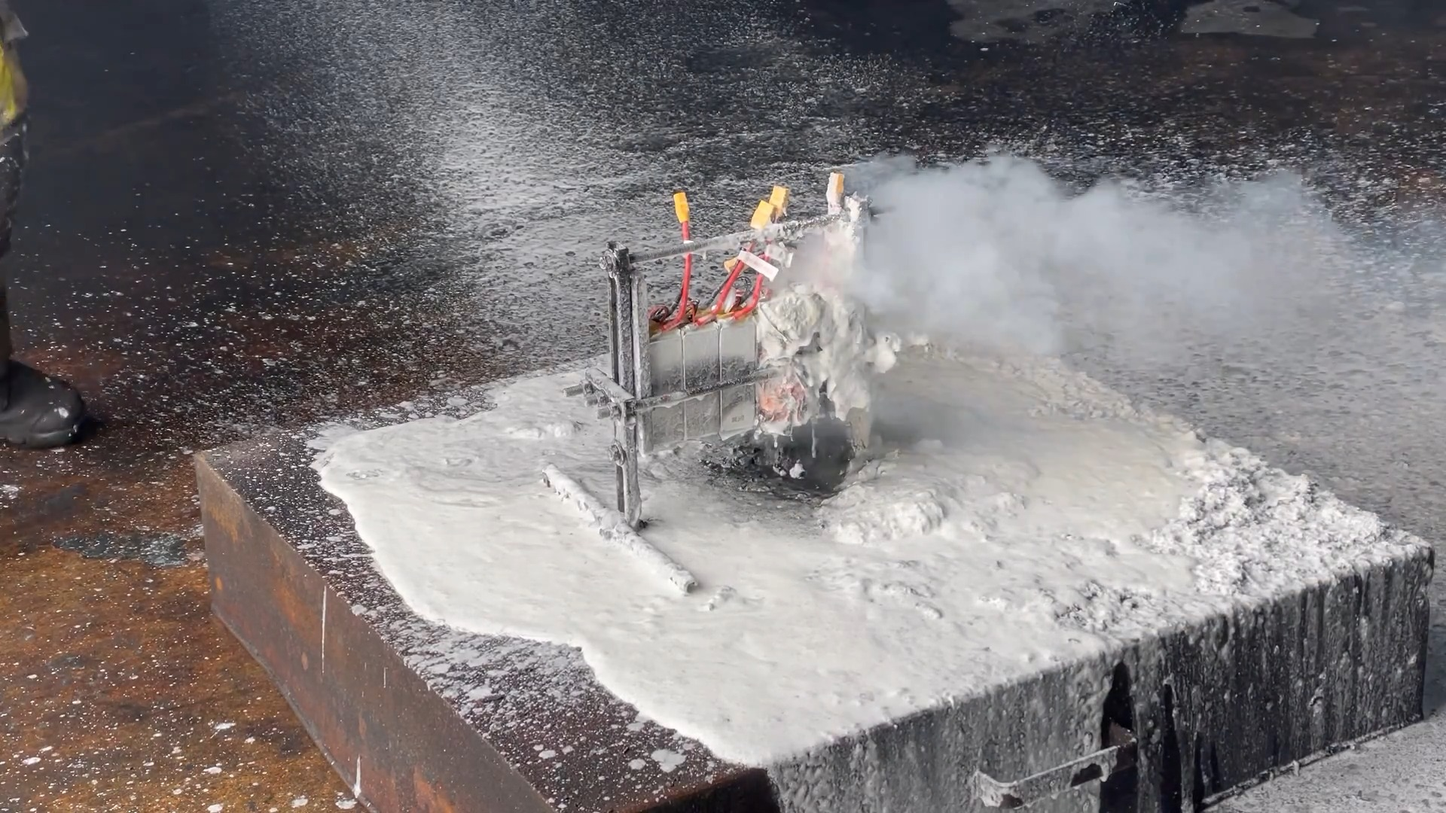smoke: (818, 149, 1317, 447)
